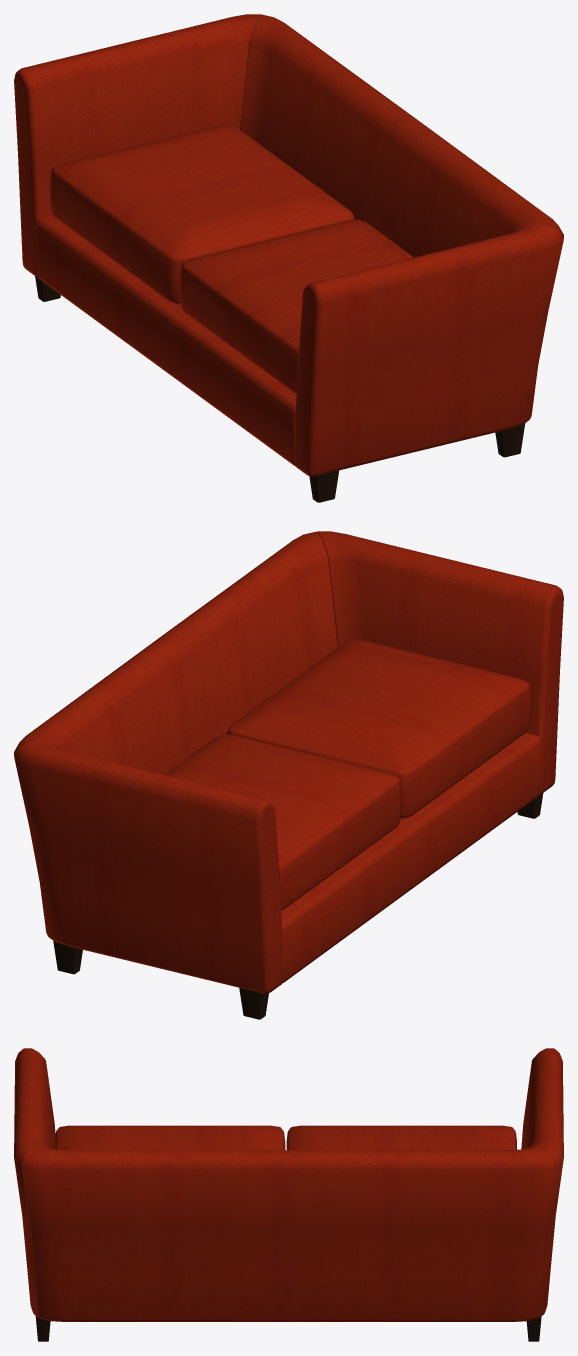
File: sofa_01.FBX
3 renders of one model, top to bottom at view 1: azimuth 30°, elevation 25°; view 2: azimuth 150°, elevation 25°; view 3: azimuth 270°, elevation 25°, orthographic. The views are drawn at different scales.
Visible parts, largest first — view 1: soafa_01; view 2: soafa_01; view 3: soafa_01.
Boxes of the visible parts, x1=… form: soafa_01: x1=14, y1=14, x2=563, y2=502; soafa_01: x1=14, y1=531, x2=563, y2=1019; soafa_01: x1=14, y1=1048, x2=563, y2=1341.
Size of the model in its own units: 3.17 by 2.65 by 6.58.
2 materials, 1 textured.
